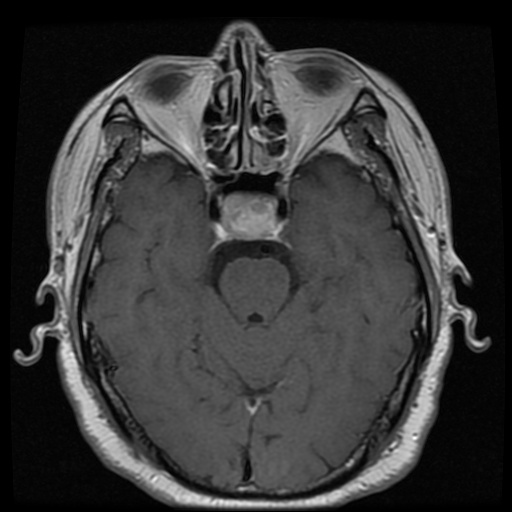pituitary: (221, 194, 277, 241)
